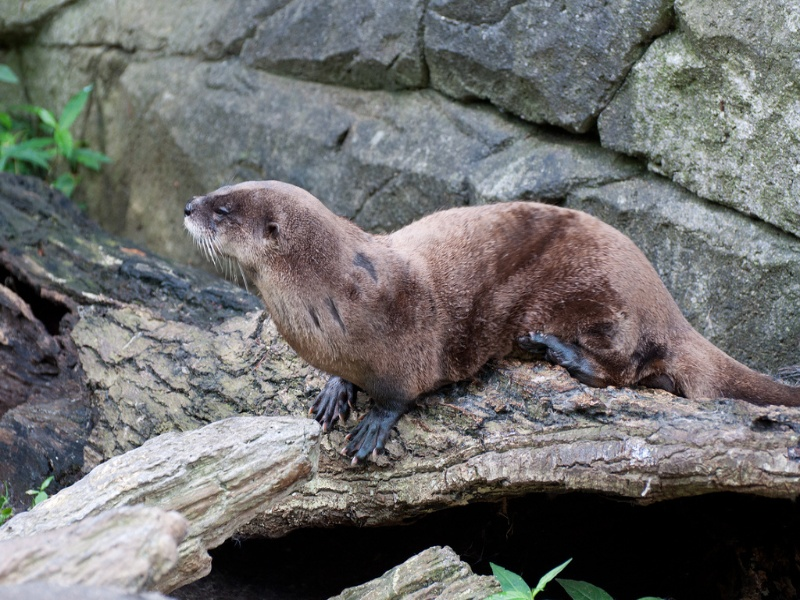minkish: (182, 180, 794, 471)
